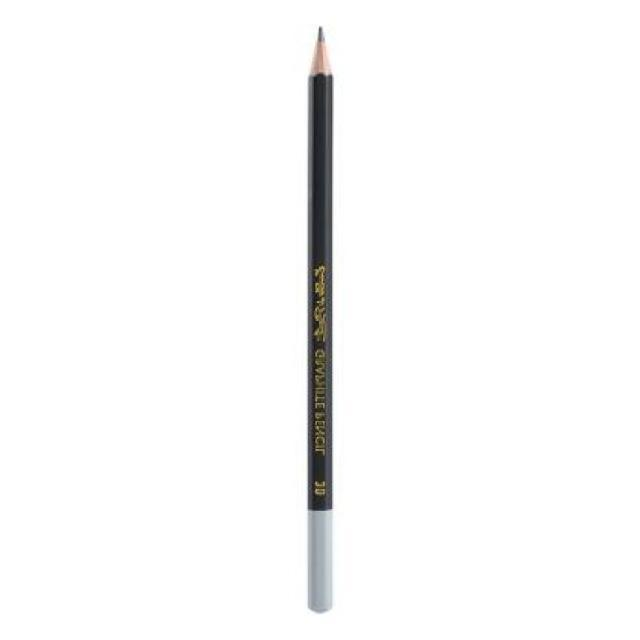pencil: (300, 18, 342, 98)
